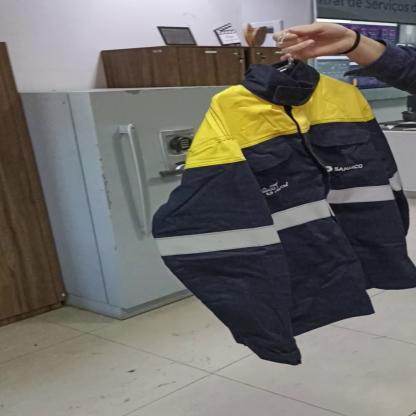C_eletrica: (152, 66, 414, 360)
